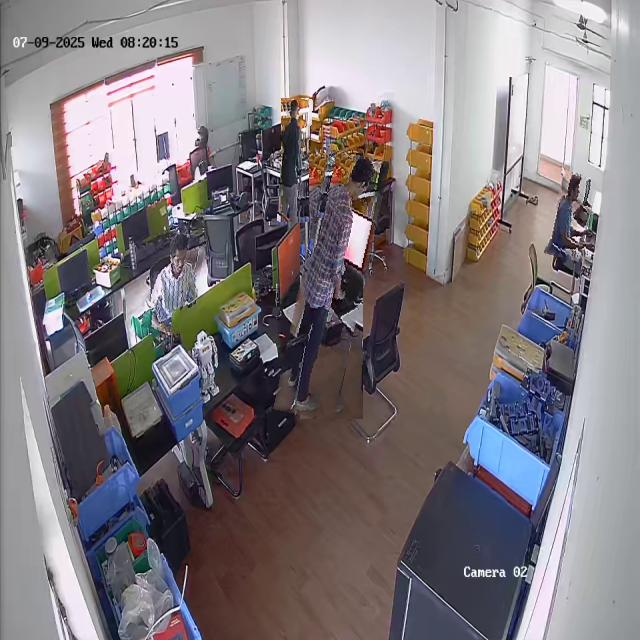person: (287, 151, 376, 421), (145, 231, 203, 335), (279, 98, 311, 223), (550, 172, 594, 261)
